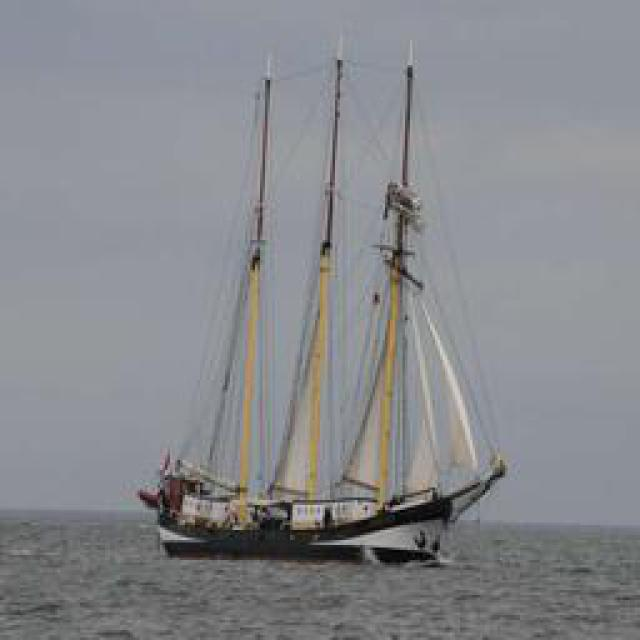Ship: (155, 28, 508, 563)
